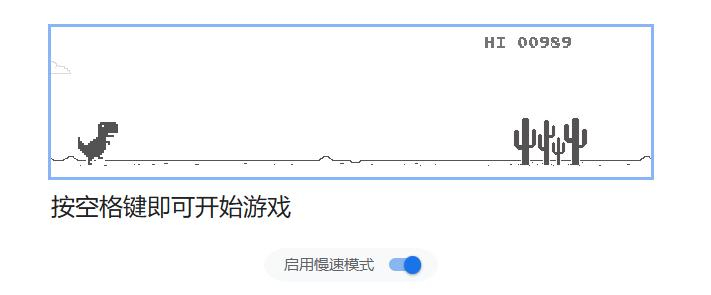cactus: (513, 117, 588, 167)
dino: (74, 120, 119, 166)
